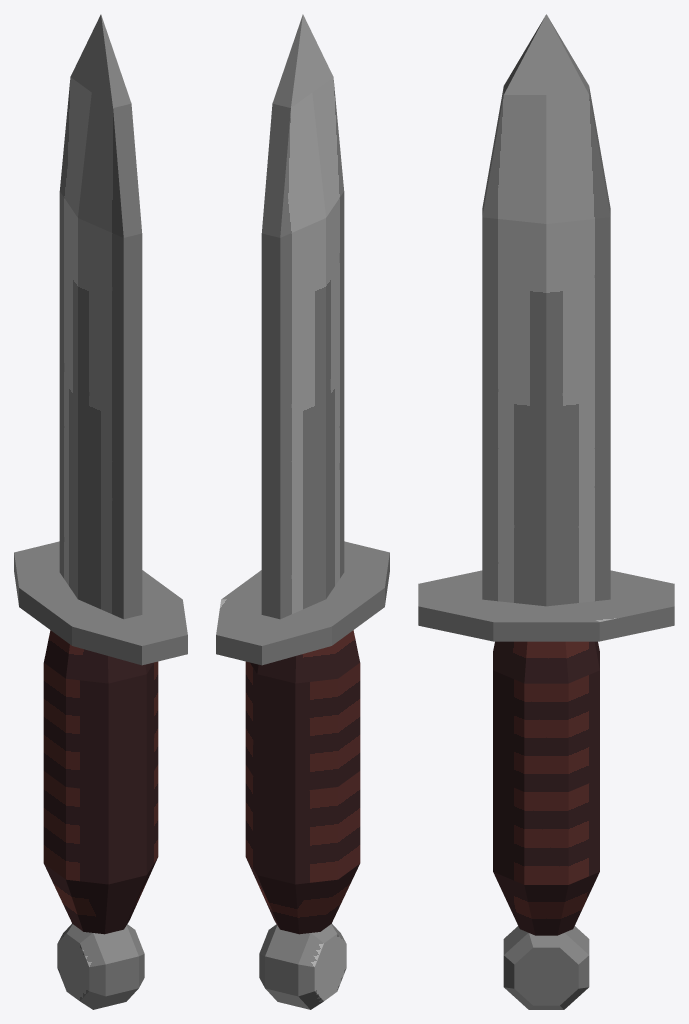
Rendered from dagger.gltf.
The picture shows the model from 3 angles, left to right: view 1: azimuth 30°, elevation 25°; view 2: azimuth 150°, elevation 25°; view 3: azimuth 270°, elevation 25°; orthographic projection.
Visible parts, largest first — view 1: blade, hilt, crossguard, cylinder; view 2: blade, hilt, crossguard, cylinder; view 3: blade, hilt, crossguard, cylinder.
Part boxes in pixels (left/top/right/bottom): blade: left=59, top=14, right=142, bottom=619; hilt: left=43, top=630, right=158, bottom=934; crossguard: left=14, top=541, right=187, bottom=665; cylinder: left=57, top=923, right=144, bottom=1009; blade: left=261, top=14, right=344, bottom=619; hilt: left=245, top=630, right=360, bottom=934; crossguard: left=216, top=541, right=389, bottom=665; cylinder: left=259, top=923, right=346, bottom=1009; blade: left=482, top=14, right=610, bottom=606; hilt: left=493, top=641, right=599, bottom=935; crossguard: left=418, top=570, right=674, bottom=641; cylinder: left=503, top=926, right=589, bottom=1009.
Bounding box in the file's own units: 0.0375 × 0.3188 × 0.075.
Materials: 1 (1 with a texture image).
